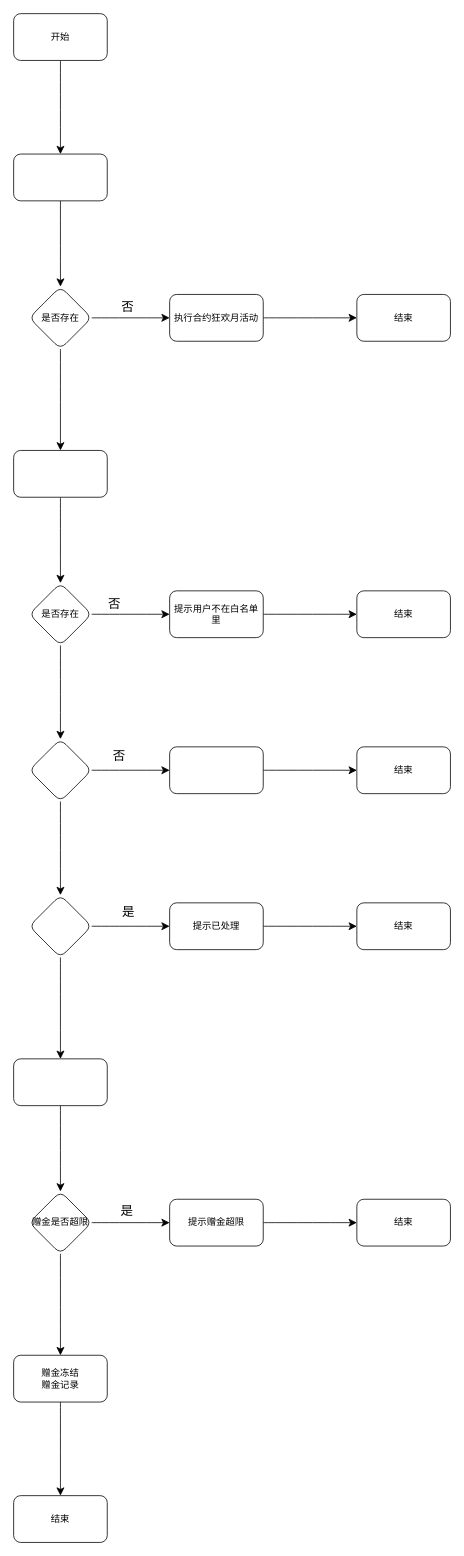
Some shapes in this 464 by 1556 pixel diagram are drawn without their labels. The centre of each missing label's shape, as x and y in pixels:
"提示活动不在有效期" goes at (x=216, y=770).
"查询合约狂欢派对活动" goes at (x=60, y=177).
"查询用户参与的活动" goes at (x=60, y=473).
"活动是否进行中" goes at (x=60, y=769).
"计算赠金值" goes at (x=60, y=1082).
"赠金流水是否存在" goes at (x=60, y=925).
